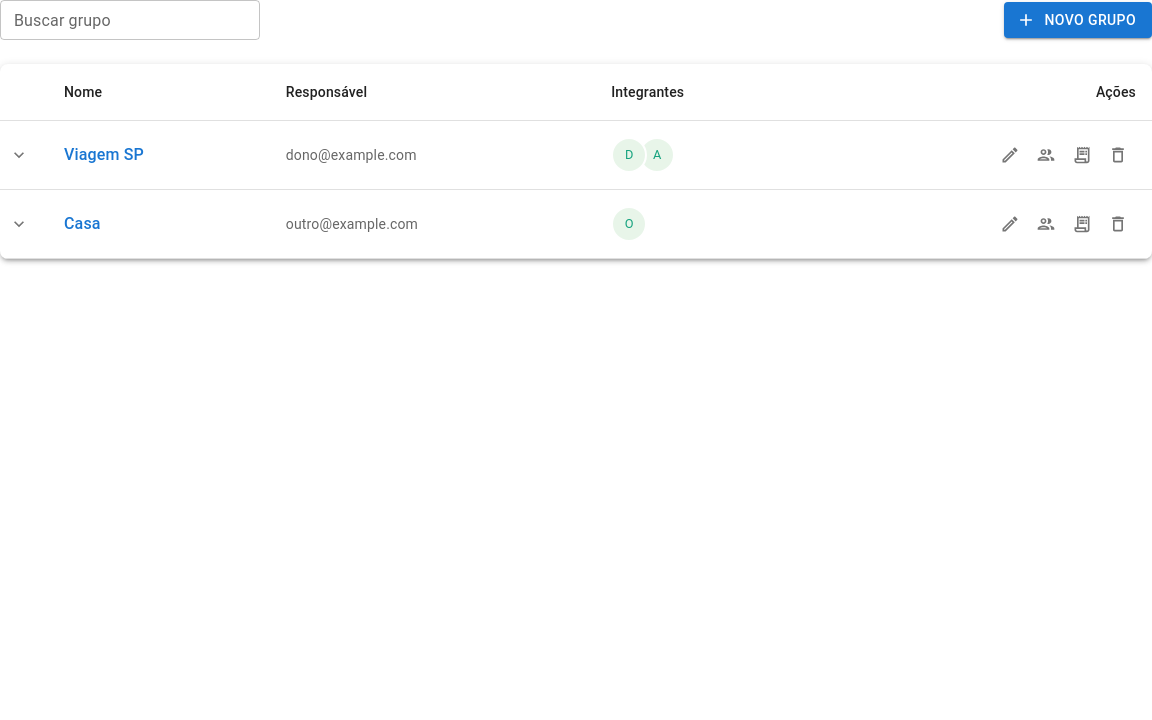
Dashboard › deletes a group after confirming in the dialog, showing the backend message
Expected: the link "Viagem SP" is shown, [64,145,144,164]
Step 1. Click the button named "Excluir grupo" in the row of "Viagem SP" → (1118, 155), box [1100,137,1136,173]
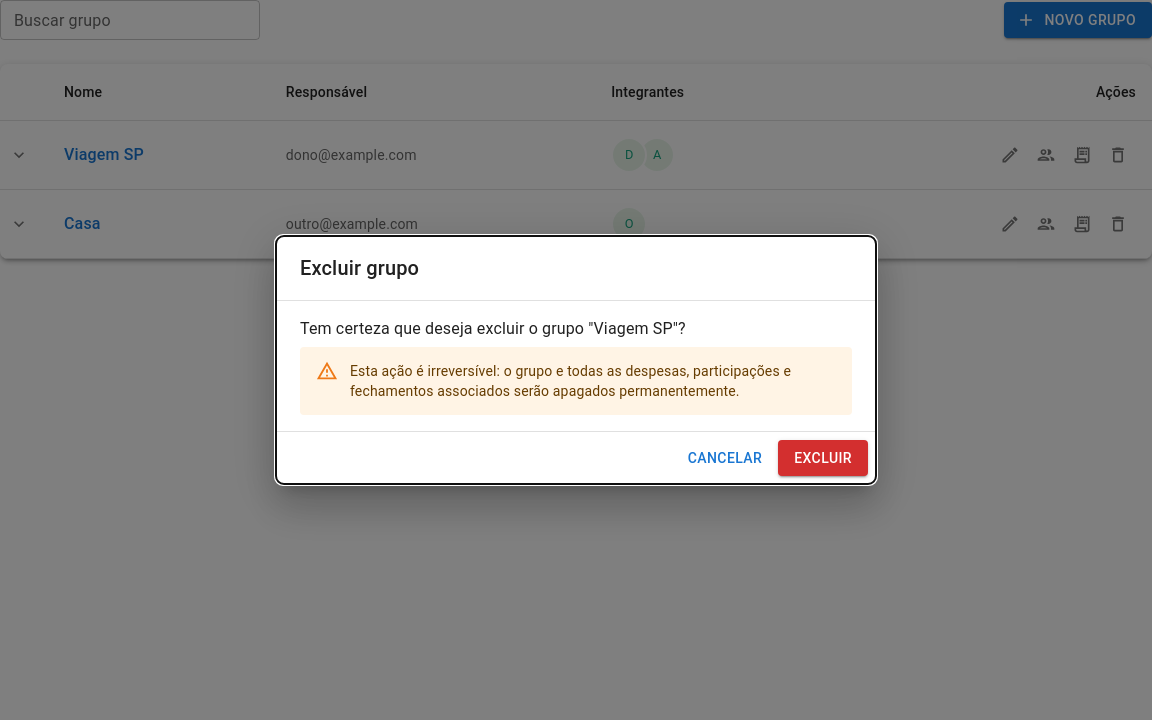
Expected: the heading "Excluir grupo" is shown, [300,256,419,280]
Expected: the text "Tem certeza que deseja excluir o grupo \"Viagem SP\"?" is shown, [300,319,686,338]
Step 2. Click the button "Excluir" → (823, 458), box [778,440,868,476]
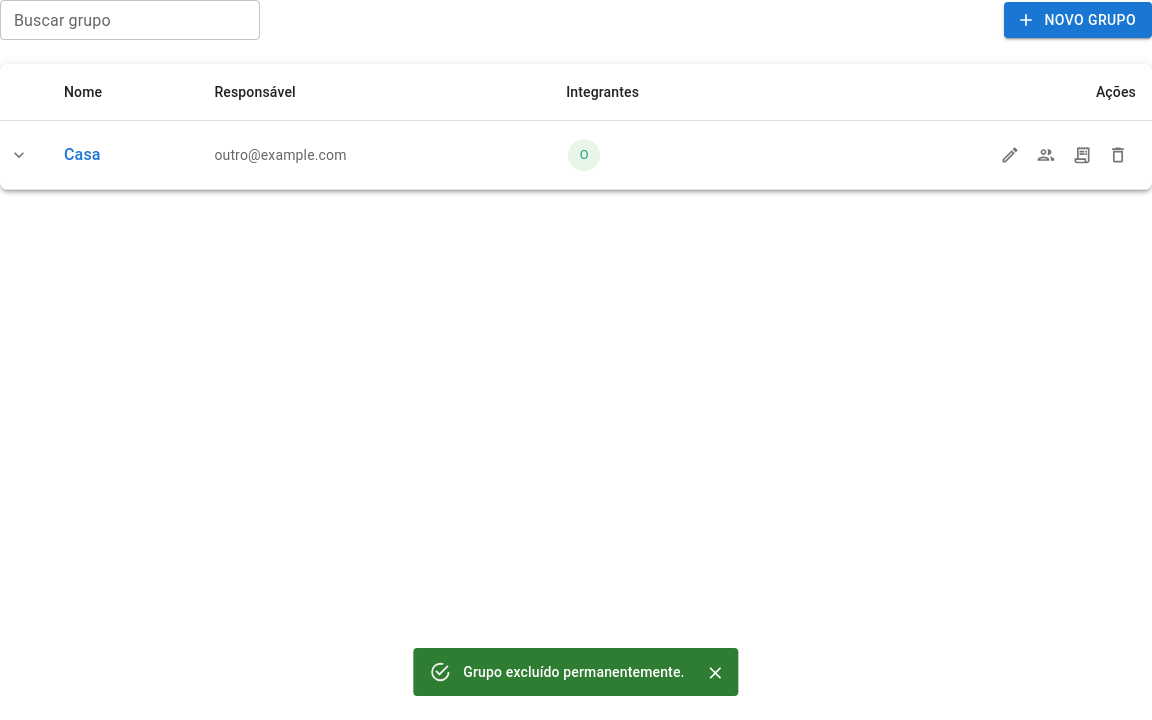
Expected: the link "Viagem SP" is gone
Expected: the text "Grupo excluído permanentemente." is shown, [463,664,685,680]
